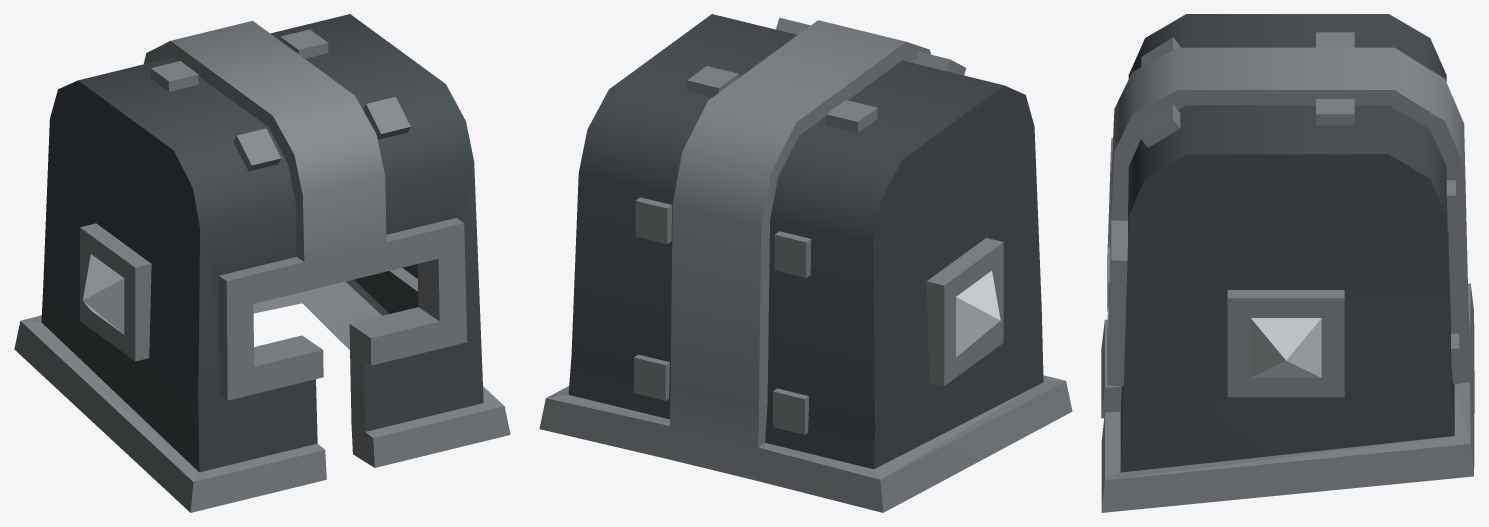
Rendered from Helmet 04.FBX.
3 renders of one model, left to right at view 1: azimuth 30°, elevation 25°; view 2: azimuth 150°, elevation 25°; view 3: azimuth 270°, elevation 25°, orthographic. The views are drawn at different scales.
Parts seen in each view (by area): view 1: Helmet 04; view 2: Helmet 04; view 3: Helmet 04.
Boxes of the visible parts, box(x1,y1,x2,y2) form: Helmet 04: box(14, 14, 510, 512); Helmet 04: box(539, 14, 1072, 512); Helmet 04: box(1101, 14, 1474, 512).
Size of the model in its own units: 80.14 by 73.4 by 68.02.
1 material, 1 textured.
